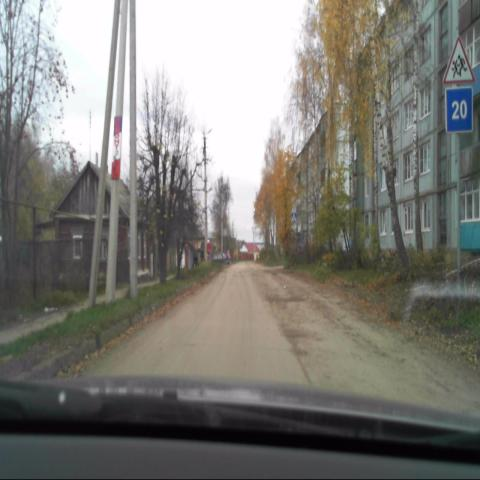6_2: (444, 87, 472, 131)
